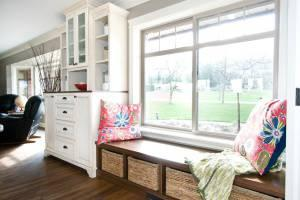window: (138, 1, 279, 136)
